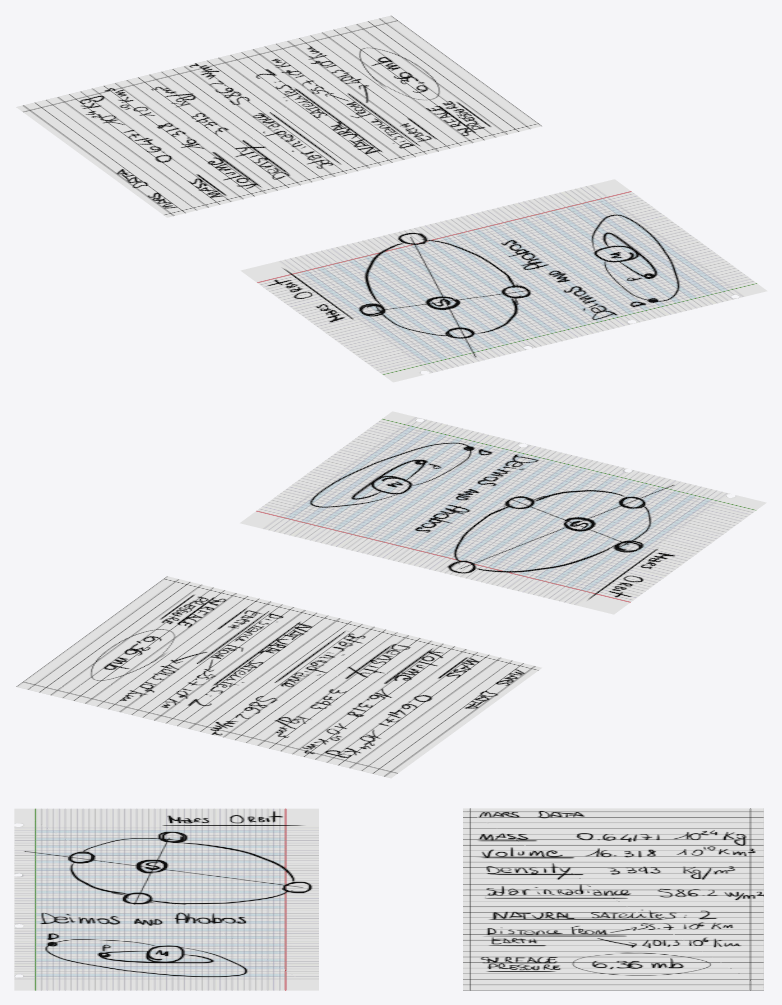
Rendered from fogli.FBX.
3 views of the same model, one above another, from view 1: azimuth 30°, elevation 25°; view 2: azimuth 150°, elevation 25°; view 3: azimuth 270°, elevation 25° (orthographic).
Visible parts, largest first — view 1: foglio1, foglio2; view 2: foglio1, foglio2; view 3: foglio1, foglio2.
Part boxes in pixels (x1,y1,x2,y2): foglio1: [240, 179, 767, 382]; foglio2: [16, 15, 541, 217]; foglio1: [240, 411, 766, 614]; foglio2: [16, 576, 541, 778]; foglio1: [14, 808, 318, 990]; foglio2: [463, 808, 763, 990].
Bounding box in the file's own units: 0.297 × 1.29e-17 × 0.5191.
